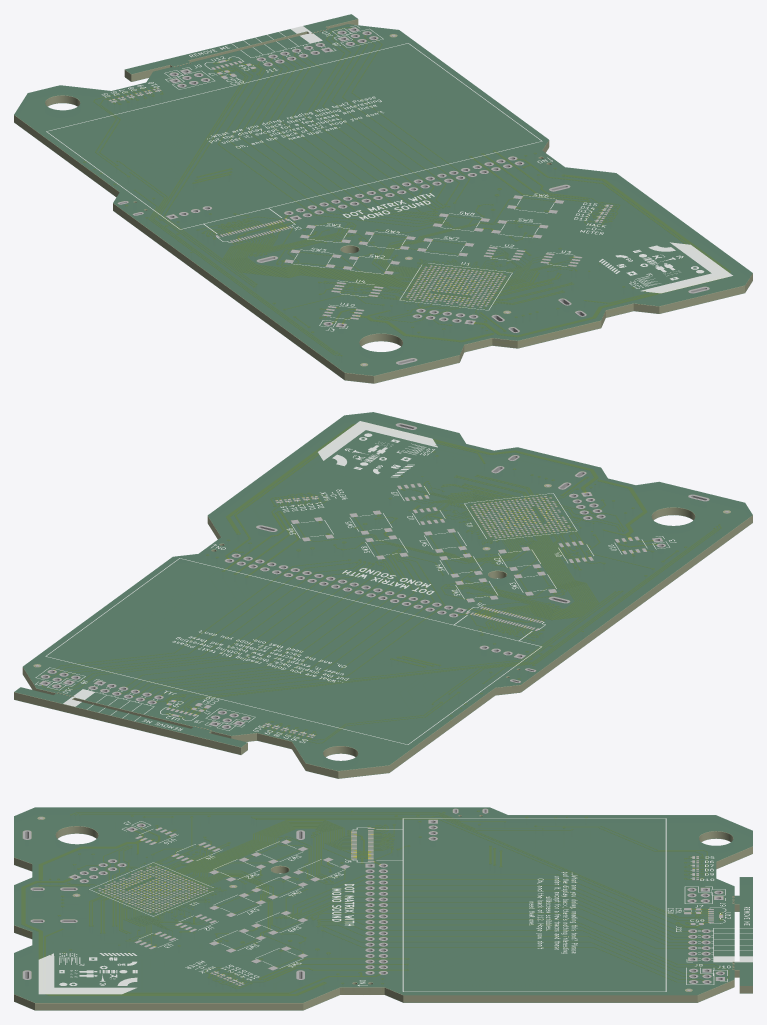
File: hackaday-superconference-badge-2019-fpga-game-boy.glb
3 views of the same model, one above another, from view 1: azimuth 30°, elevation 25°; view 2: azimuth 150°, elevation 25°; view 3: azimuth 270°, elevation 25° (orthographic).
Parts seen in each view (by area): view 1: =>[0:1:1:7], =>[0:1:1:9], =>[0:1:1:2], =>[0:1:1:5]; view 2: =>[0:1:1:7], =>[0:1:1:9], =>[0:1:1:2], =>[0:1:1:5]; view 3: =>[0:1:1:7], =>[0:1:1:9], =>[0:1:1:2], =>[0:1:1:5].
Boxes of the visible parts, x1,y1,x2,y2 form: =>[0:1:1:7]: (14, 14, 752, 383); =>[0:1:1:9]: (14, 15, 752, 383); =>[0:1:1:2]: (85, 27, 730, 365); =>[0:1:1:5]: (46, 25, 744, 383); =>[0:1:1:7]: (14, 412, 752, 778); =>[0:1:1:9]: (14, 413, 752, 778); =>[0:1:1:2]: (35, 423, 728, 741); =>[0:1:1:5]: (35, 421, 676, 744); =>[0:1:1:7]: (14, 807, 752, 1010); =>[0:1:1:9]: (14, 808, 752, 1010); =>[0:1:1:2]: (22, 808, 724, 995); =>[0:1:1:5]: (38, 818, 752, 995).
Bounding box in the file's own units: 0.088 × 0.00166 × 0.1405.
Materials: 4 (4 with a texture image).
